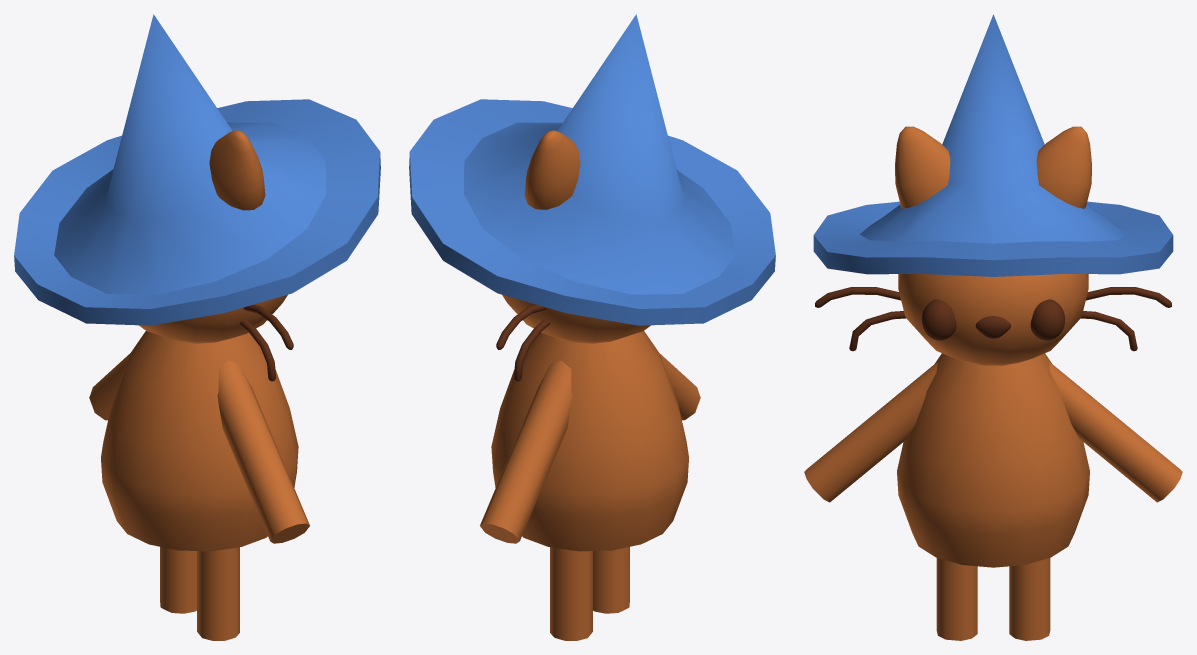
File: Player_cat.fbx
3 renders of one model, left to right at view 1: azimuth 30°, elevation 25°; view 2: azimuth 150°, elevation 25°; view 3: azimuth 270°, elevation 25°, orthographic. The views are drawn at different scales.
Visible parts, largest first — view 1: Hat_cat1, Cylinder.001, Cylinder.002, Cylinder, Cylinder.008, Sphere.001, Whiskers_cat1; view 2: Hat_cat1, Cylinder.001, Cylinder.002, Cylinder, Cylinder.008, Sphere.001, Whiskers_cat1; view 3: Hat_cat1, Cylinder.001, Cylinder.002, Sphere.001, Cylinder.008, Cylinder, Whiskers_cat1, Sphere.006, Sphere.007.
Part boxes in pixels (box(x1,y1,x2,y2)): Hat_cat1: box(14, 14, 380, 325); Cylinder.001: box(101, 331, 298, 551); Cylinder.002: box(89, 354, 309, 543); Cylinder: box(160, 547, 239, 640); Cylinder.008: box(209, 130, 265, 210); Sphere.001: box(139, 294, 287, 343); Whiskers_cat1: box(239, 304, 293, 381); Hat_cat1: box(409, 14, 775, 325); Cylinder.001: box(491, 331, 688, 551); Cylinder.002: box(480, 354, 700, 543); Cylinder: box(550, 547, 629, 640); Cylinder.008: box(524, 130, 580, 209); Sphere.001: box(502, 294, 650, 343); Whiskers_cat1: box(496, 304, 550, 381); Hat_cat1: box(813, 14, 1173, 276); Cylinder.001: box(897, 353, 1089, 567); Cylinder.002: box(804, 362, 1182, 502); Sphere.001: box(898, 274, 1088, 365); Cylinder.008: box(895, 126, 1091, 209); Cylinder: box(936, 558, 1050, 640); Whiskers_cat1: box(815, 287, 1171, 351); Sphere.006: box(921, 299, 1065, 340); Sphere.007: box(975, 316, 1010, 338).
Bounding box in the file's own units: 71.85 × 132 × 75.96.
